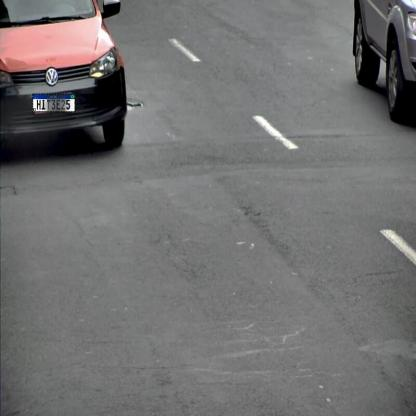PlacaM: (33, 94, 76, 112)
